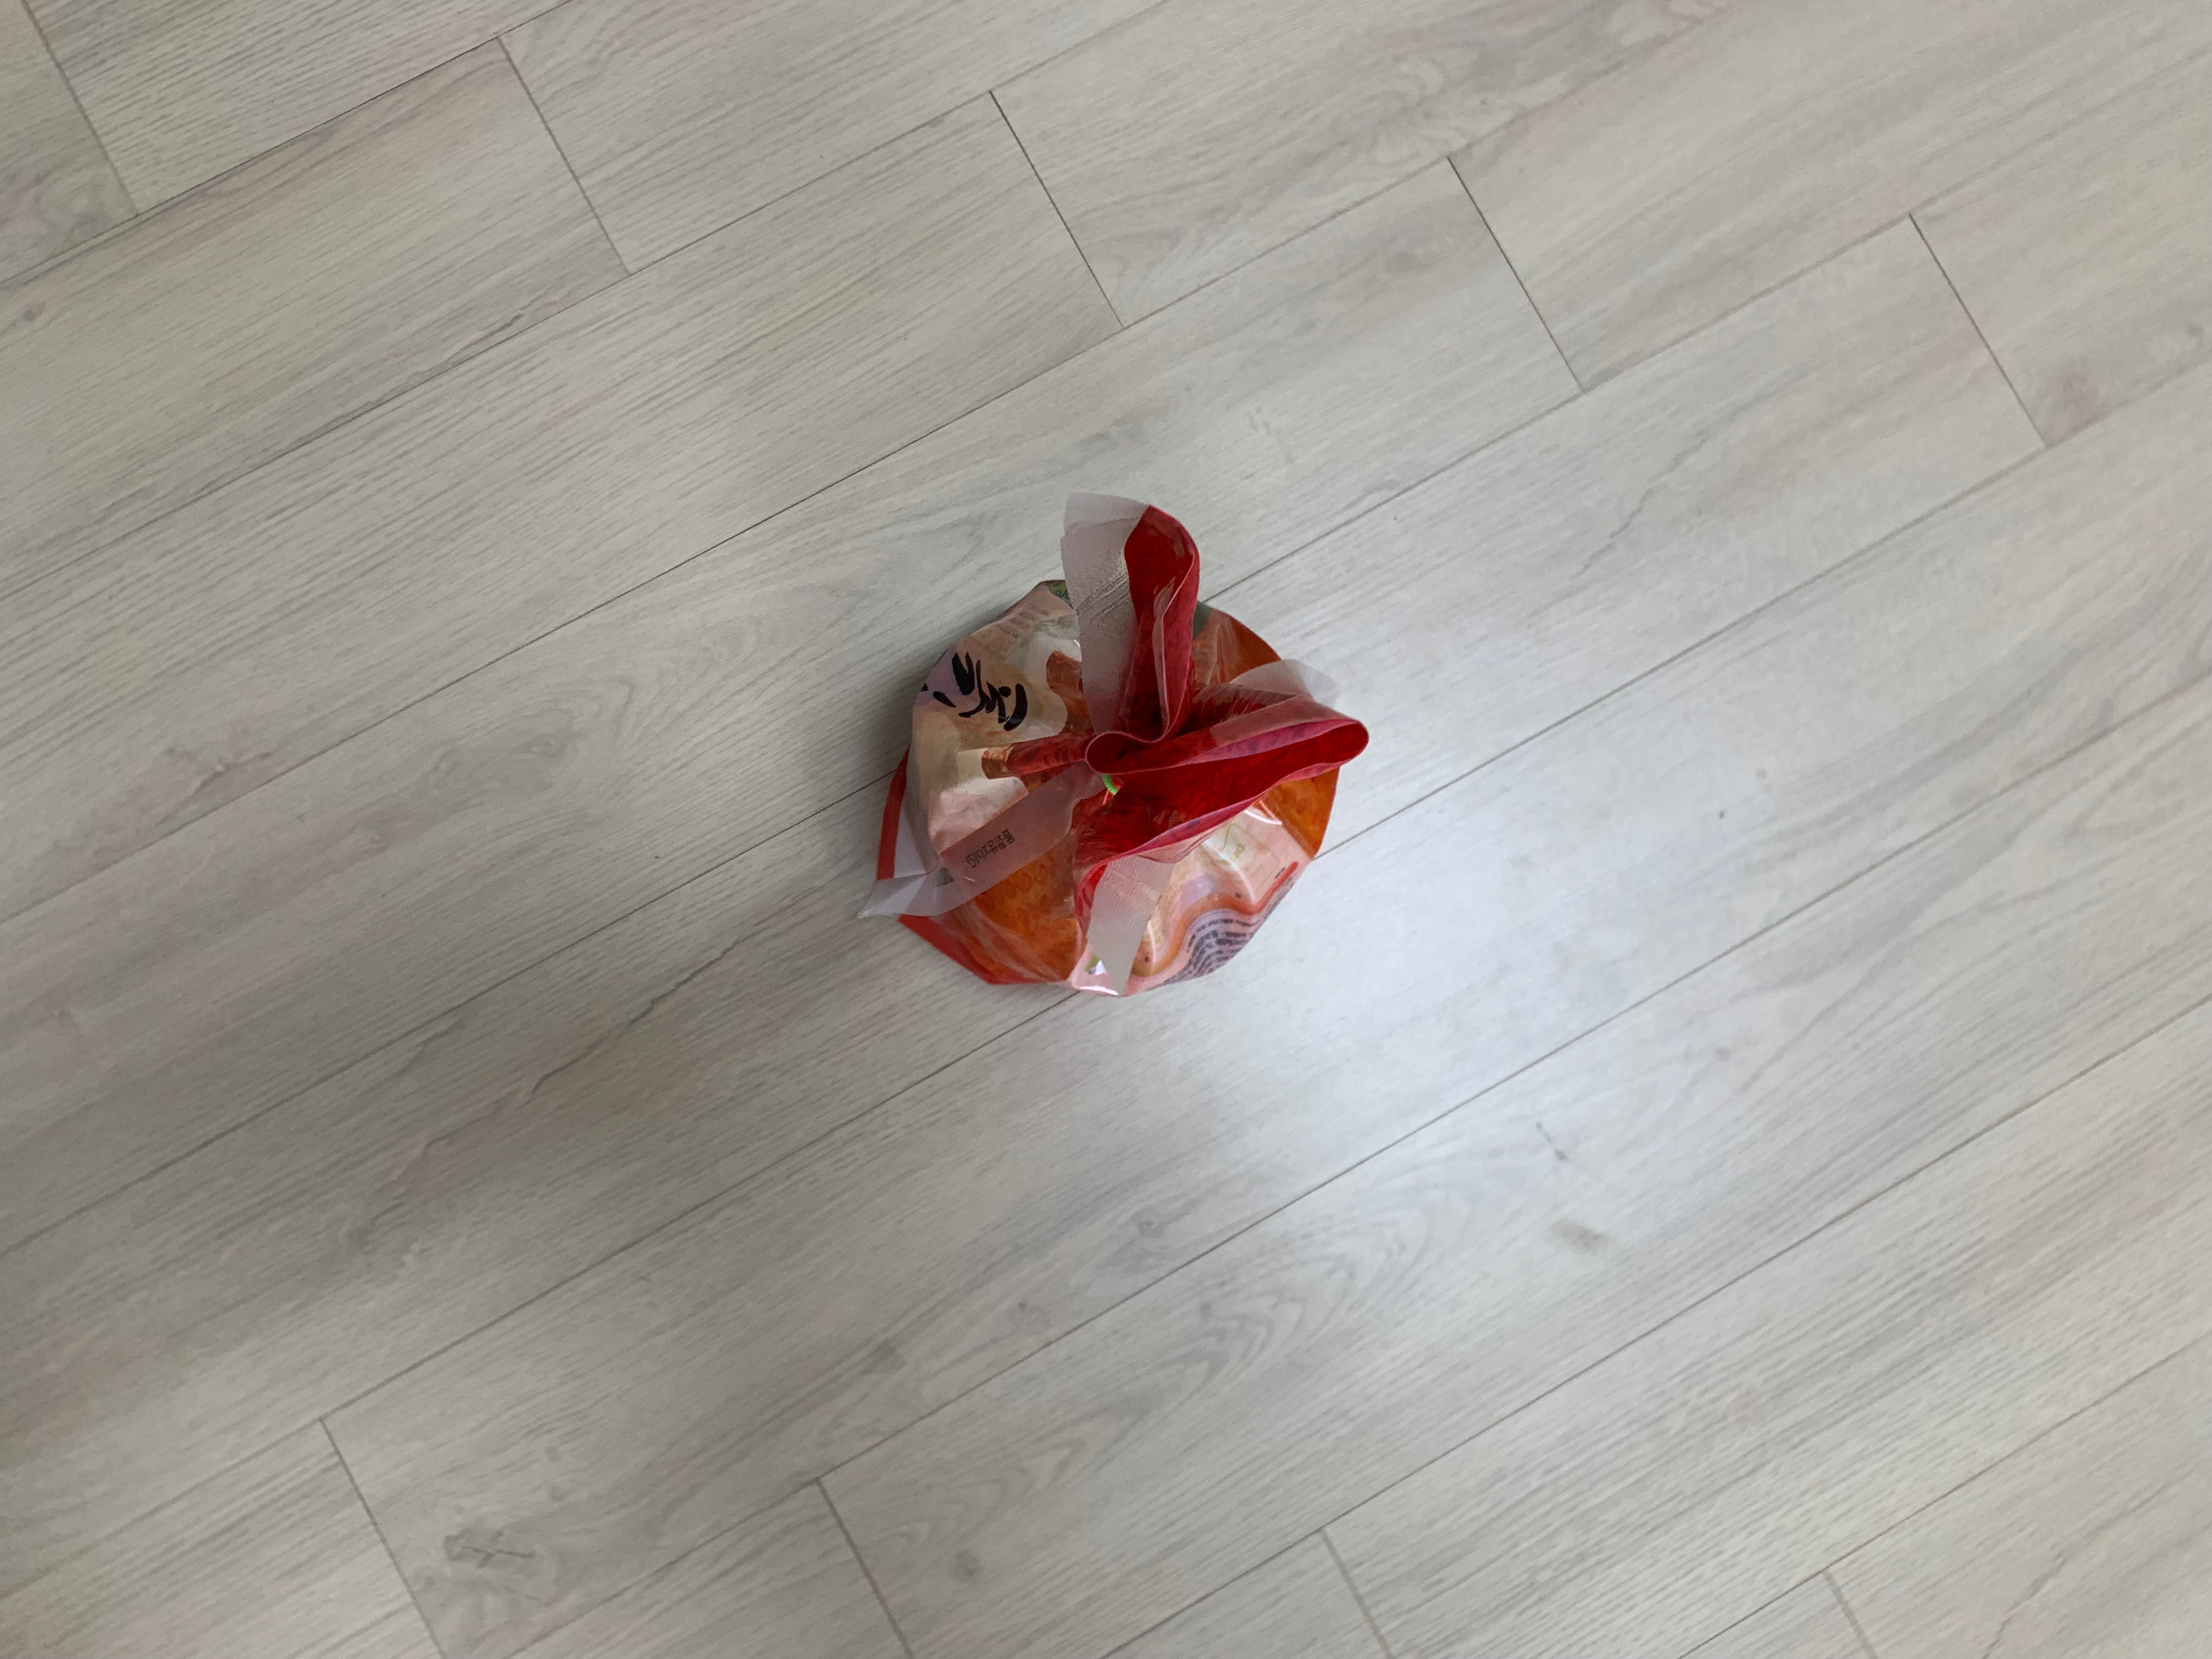kimchi: (878, 507, 1369, 997)
